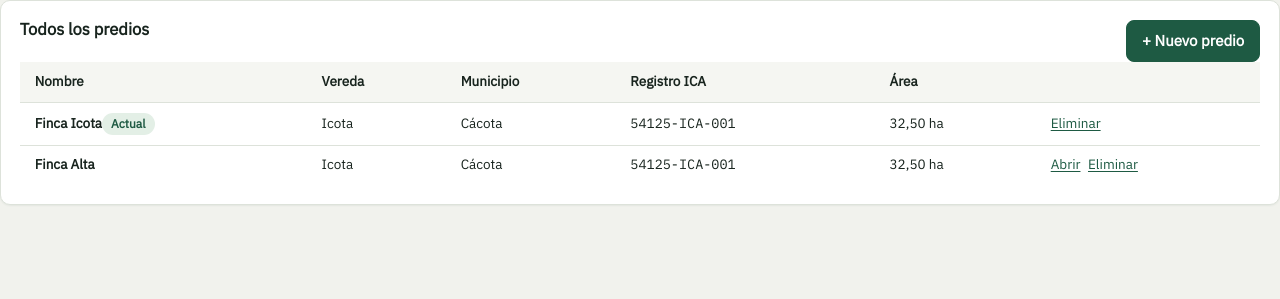
AdministrarPredios › elimina tras confirmar y muestra el motivo si tiene lotes
Step 1. Click the button with aria-label "Eliminar Finca Alta" → coordinates (1113, 165), box [1088,156,1138,175]
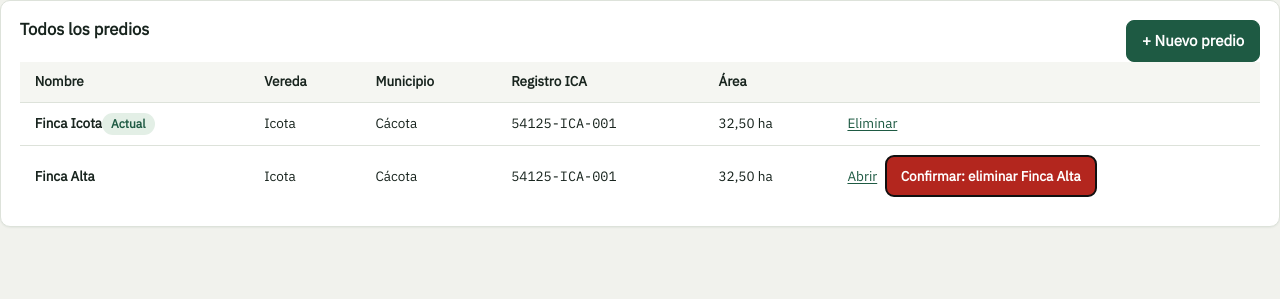
Step 2. Click the button "Confirmar: eliminar Finca Alta" → coordinates (991, 176), box [885,156,1097,198]
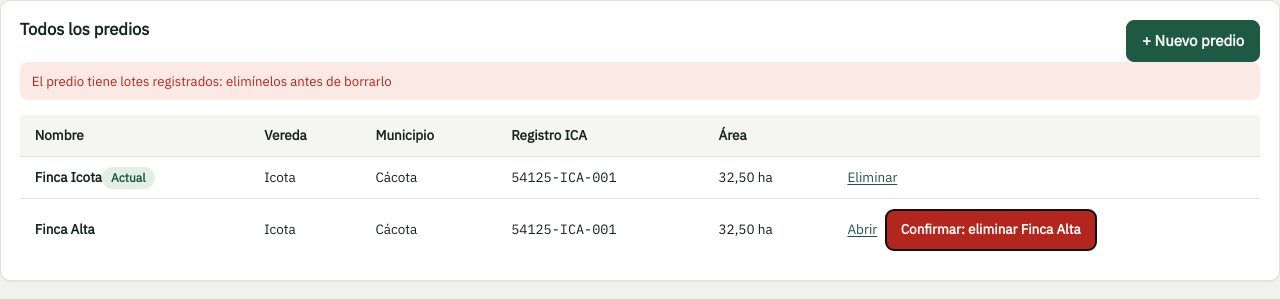
Expected: the message shows "tiene lotes registrados", [32,72,392,90]
